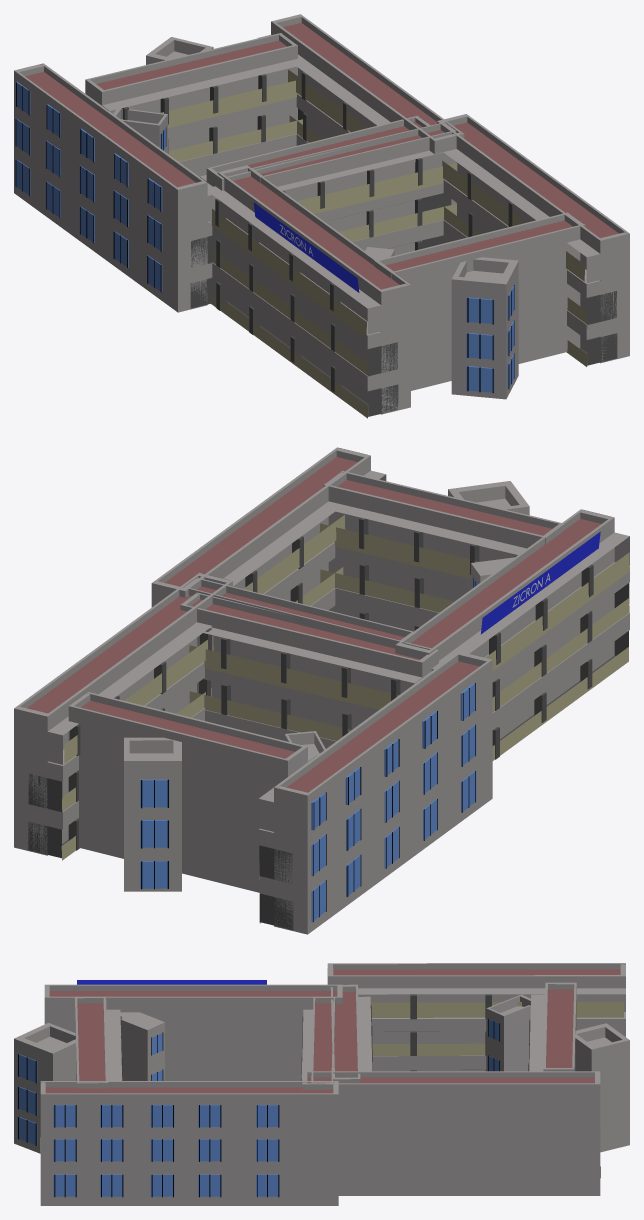
The model's file is zicronA.glb.
3 renders of one model, top to bottom at view 1: azimuth 30°, elevation 25°; view 2: azimuth 150°, elevation 25°; view 3: azimuth 270°, elevation 25°, orthographic. The views are drawn at different scales.
Parts seen in each view (by area): view 1: Cube.201, Cube.001, Cube.013, Cube.003, Cube.008, Cube.014, Cube.007, Cube.042, Cube.012, Plane, Cube, Cube.049 (+3 smaller); view 2: Cube.001, Cube.201, Cube.003, Cube.007, Cube.012, Cube.008, Cube.013, Cube.049, Cube.014, Plane, Cube.042, Cube.050 (+2 smaller); view 3: Cube.007, Cube.013, Cube.001, Cube.201, Cube.049, Cube.003, Cube.008, Cube.042, Cube.012, Cube, Cube.009, Cube.014 (+19 smaller).
Boxes of the visible parts, x1,y1,x2,y2 form: Cube.201: [207, 165, 410, 418]; Cube.001: [14, 63, 217, 312]; Cube.013: [437, 114, 629, 366]; Cube.003: [85, 33, 305, 176]; Cube.008: [374, 212, 585, 390]; Cube.014: [249, 122, 457, 255]; Cube.007: [258, 14, 464, 248]; Cube.042: [451, 257, 518, 399]; Cube.012: [200, 115, 430, 190]; Plane: [253, 202, 359, 292]; Cube: [113, 108, 167, 153]; Cube.049: [146, 37, 213, 64]; Cube.001: [258, 651, 492, 934]; Cube.201: [395, 509, 629, 760]; Cube.003: [68, 692, 316, 892]; Cube.007: [14, 572, 232, 860]; Cube.012: [180, 592, 438, 748]; Cube.008: [319, 471, 564, 631]; Cube.013: [151, 447, 386, 610]; Cube.049: [124, 737, 181, 891]; Cube.014: [183, 577, 416, 648]; Plane: [480, 531, 600, 634]; Cube.042: [448, 481, 529, 515]; Cube.050: [140, 779, 169, 808]; Cube.007: [302, 1071, 600, 1195]; Cube.013: [40, 1081, 338, 1205]; Cube.001: [327, 963, 625, 1071]; Cube.201: [44, 984, 342, 1080]; Cube.049: [575, 1023, 629, 1152]; Cube.003: [528, 982, 576, 1071]; Cube.008: [75, 996, 123, 1088]; Cube.042: [14, 1023, 75, 1153]; Cube.012: [330, 984, 372, 1083]; Cube: [486, 994, 530, 1071]; Cube.009: [120, 1012, 164, 1080]; Cube.014: [301, 996, 335, 1083].
Bounding box in the file's own units: 24.46 × 9.99 × 48.05.
